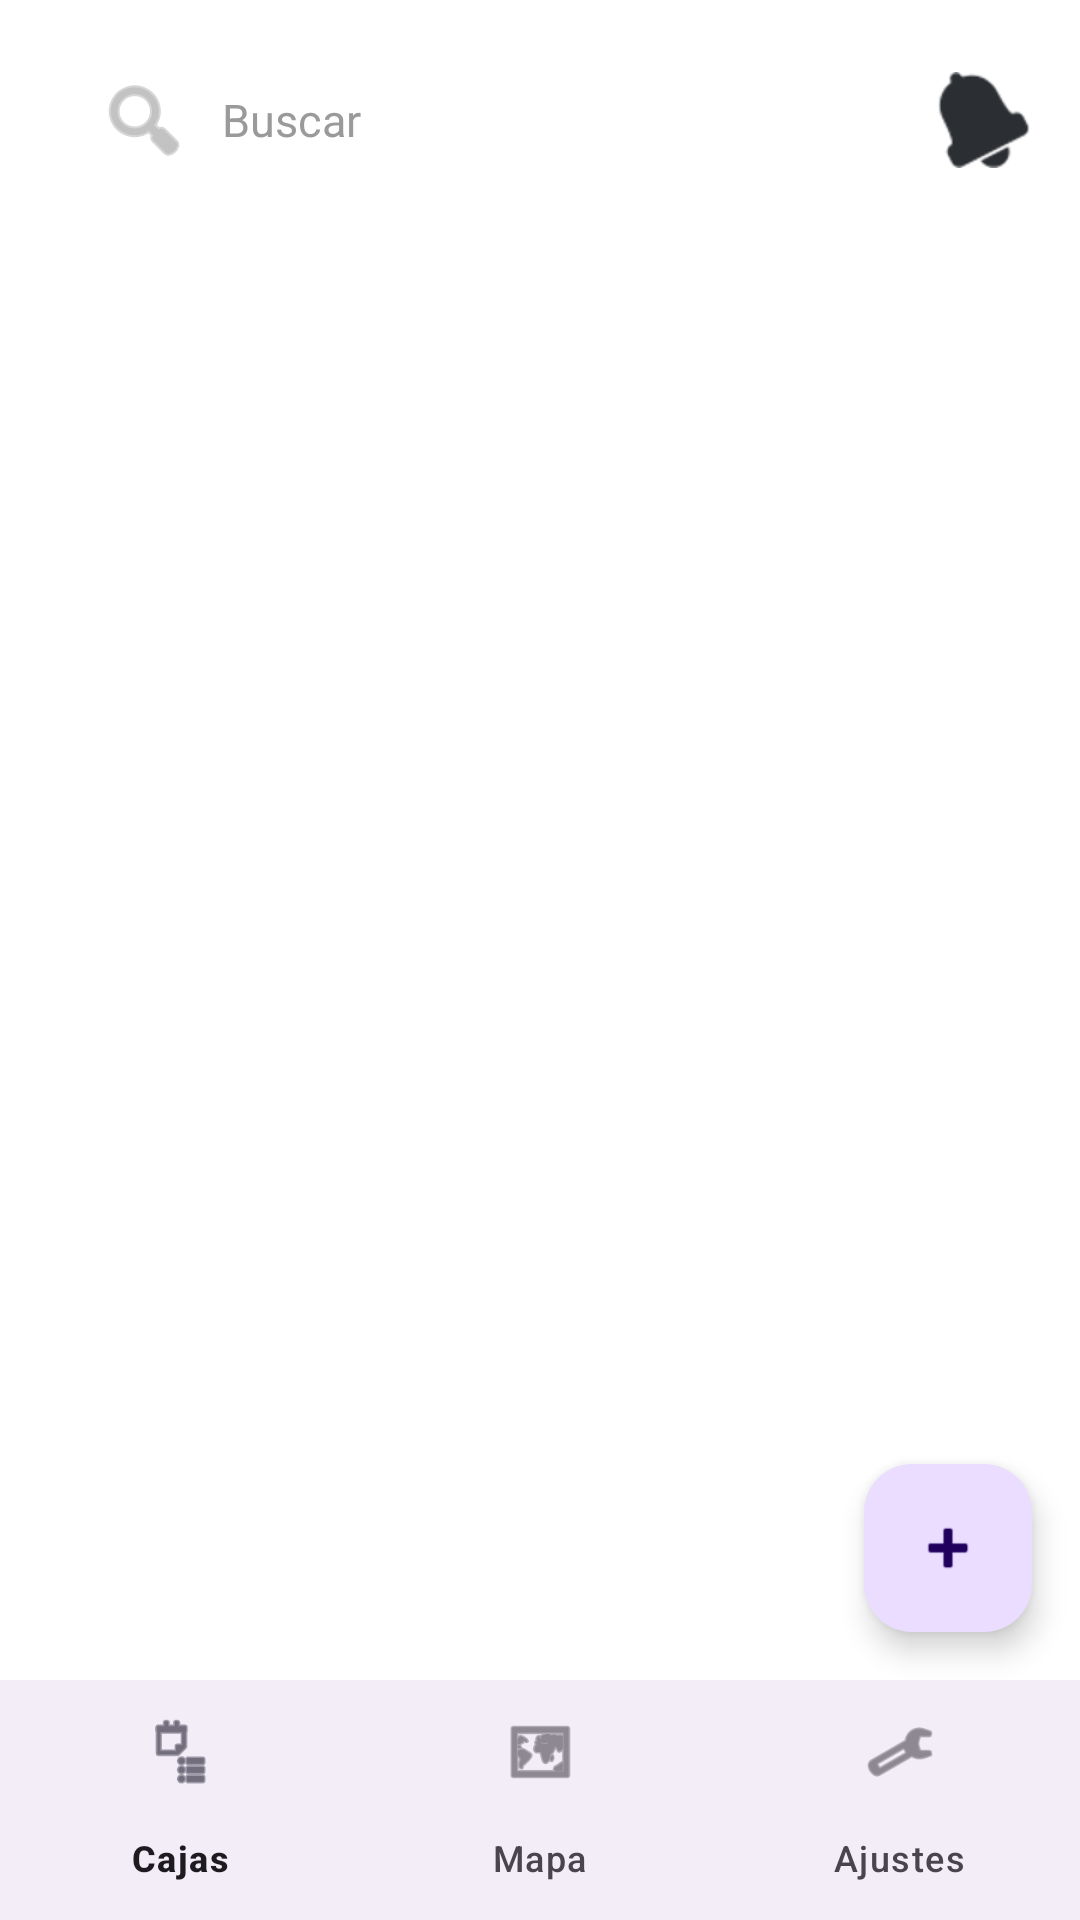

Where icons sit on this 1080w x 1920h app screen, as detection(x1, y1, x2, y2):
Añadir: detection(864, 1464, 1032, 1632)
Notificaciones: detection(939, 72, 1029, 168)
